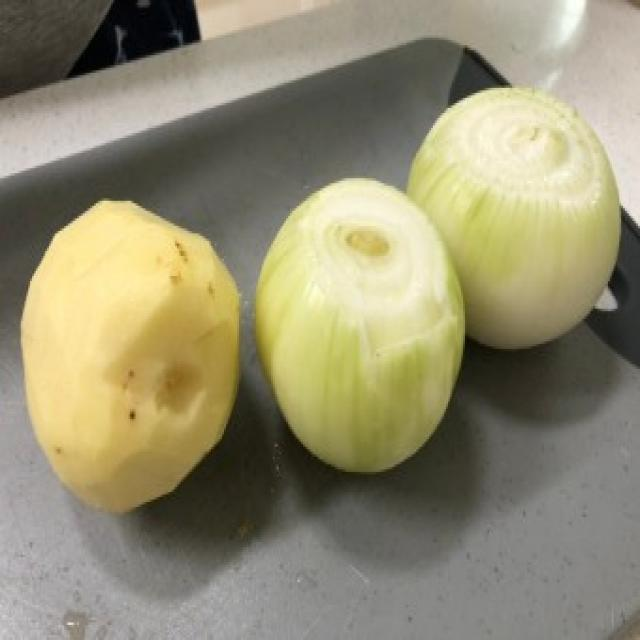onion: (249, 174, 473, 478), (398, 84, 622, 358)
potato: (20, 194, 243, 513)
